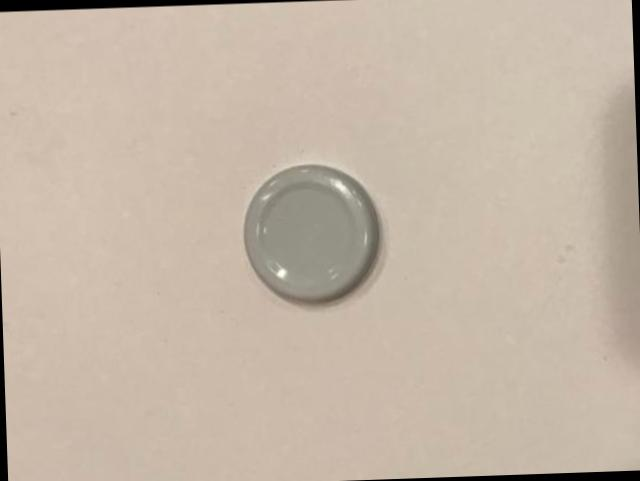metal: (243, 163, 377, 299)
